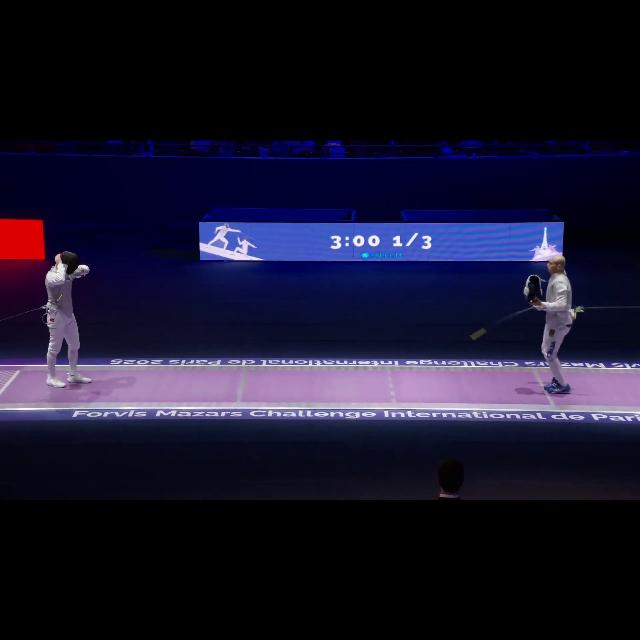blade: (470, 304, 540, 341)
